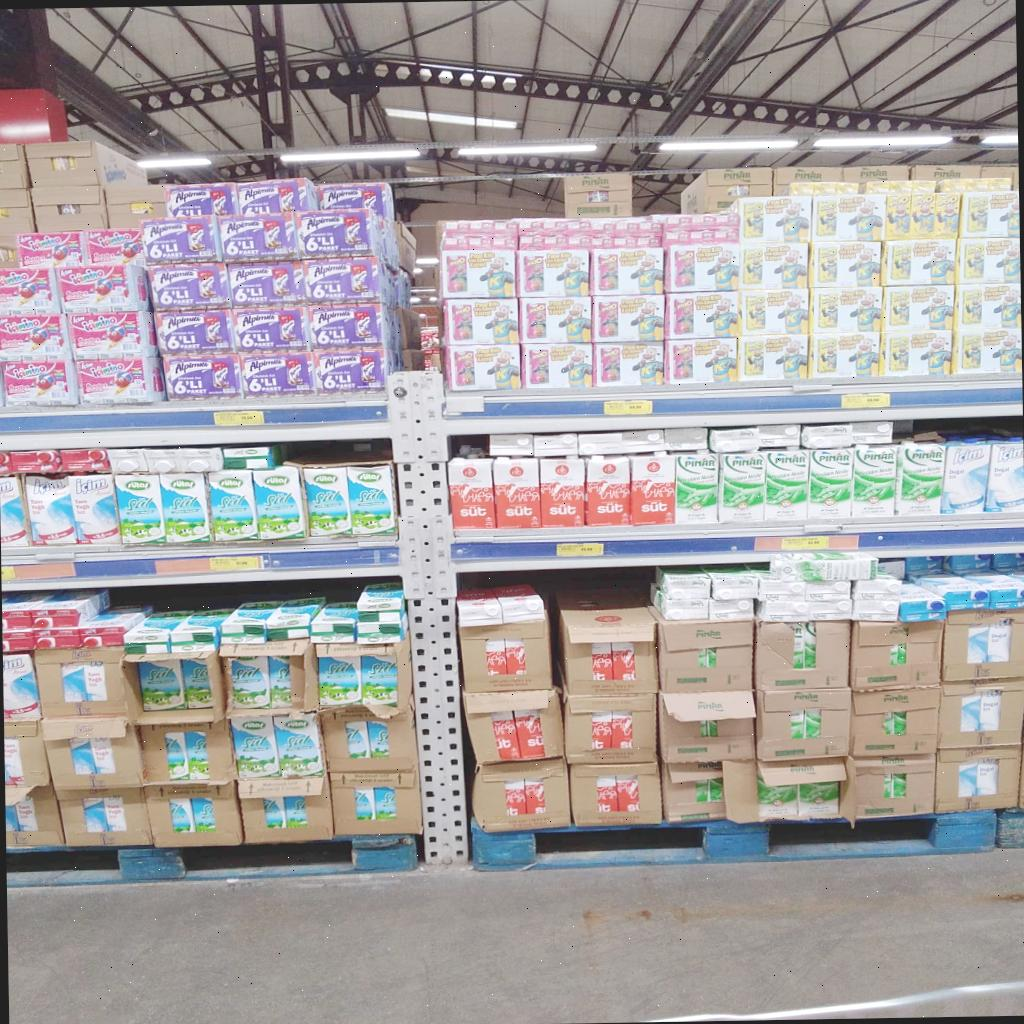price_tag: (983, 441, 1024, 512), (209, 556, 261, 572), (214, 410, 265, 426), (781, 536, 830, 551), (604, 400, 653, 415), (842, 394, 890, 409), (556, 543, 604, 557), (1, 566, 16, 580)
product: (295, 206, 395, 266), (301, 255, 397, 306), (54, 263, 148, 313), (65, 310, 156, 359), (75, 356, 165, 405), (518, 239, 589, 298), (251, 465, 306, 540), (808, 286, 883, 339), (148, 262, 230, 310), (141, 215, 221, 264), (218, 212, 297, 261), (883, 190, 960, 240), (0, 358, 78, 407), (442, 247, 515, 299), (735, 196, 813, 244), (154, 309, 235, 355), (811, 193, 887, 242), (592, 246, 666, 296), (940, 442, 991, 514), (208, 469, 258, 542), (312, 347, 388, 395), (24, 475, 76, 545), (114, 474, 166, 544), (445, 342, 519, 390), (68, 473, 118, 544), (668, 242, 740, 291), (809, 331, 884, 378), (308, 303, 384, 349), (226, 262, 305, 306), (231, 306, 308, 351), (164, 354, 241, 399), (592, 294, 664, 342), (896, 443, 944, 515), (443, 297, 518, 343), (666, 292, 739, 339), (883, 238, 955, 285), (448, 457, 495, 529), (347, 466, 395, 536), (666, 337, 739, 383), (883, 285, 954, 332), (493, 458, 540, 529), (718, 451, 765, 522), (160, 474, 209, 542), (240, 351, 314, 396), (954, 283, 1020, 333), (808, 241, 881, 286), (740, 290, 809, 337), (740, 334, 809, 381), (630, 454, 675, 526), (520, 297, 590, 343), (522, 342, 592, 388), (884, 330, 954, 376), (586, 456, 632, 526), (739, 242, 807, 289), (953, 328, 1021, 375), (852, 445, 896, 517), (594, 341, 664, 386), (305, 467, 351, 535), (764, 449, 808, 520), (539, 458, 584, 527), (675, 452, 718, 523), (808, 448, 851, 519), (237, 177, 318, 214), (0, 266, 61, 314), (316, 182, 393, 220), (957, 238, 1020, 284), (959, 190, 1019, 238), (0, 313, 67, 354), (165, 182, 239, 217), (16, 230, 82, 266), (81, 228, 143, 264), (0, 475, 30, 548)
